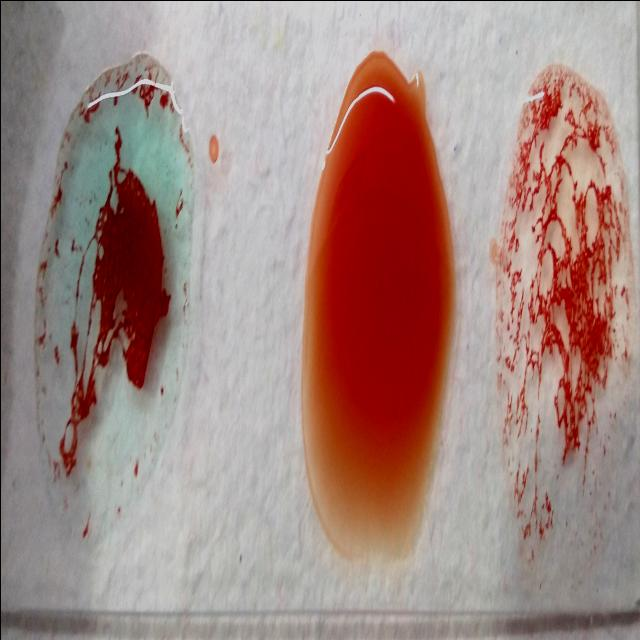A: (44, 56, 188, 552)
D: (498, 72, 628, 570)
